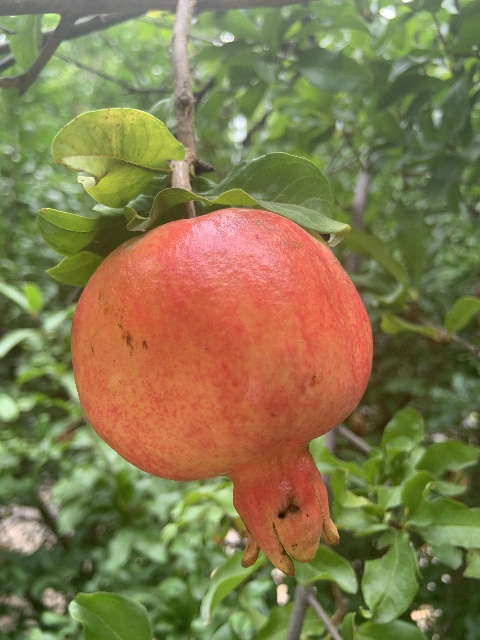ripe: (70, 208, 374, 573)
